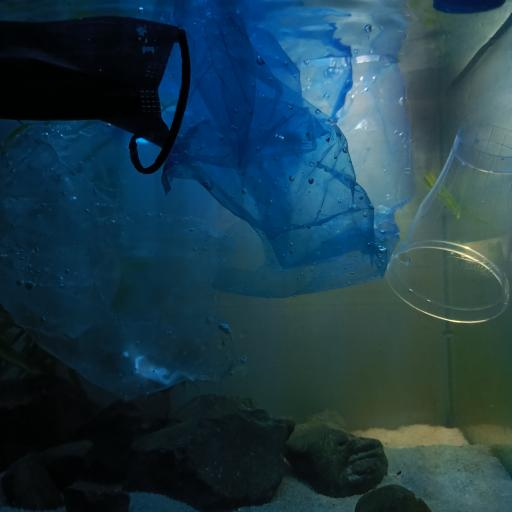bottle_cap: (436, 0, 505, 15)
mask: (0, 14, 195, 172)
plastic_bag: (0, 100, 253, 397), (142, 2, 392, 298)
plastic_cup: (247, 5, 418, 279), (390, 121, 512, 321)
